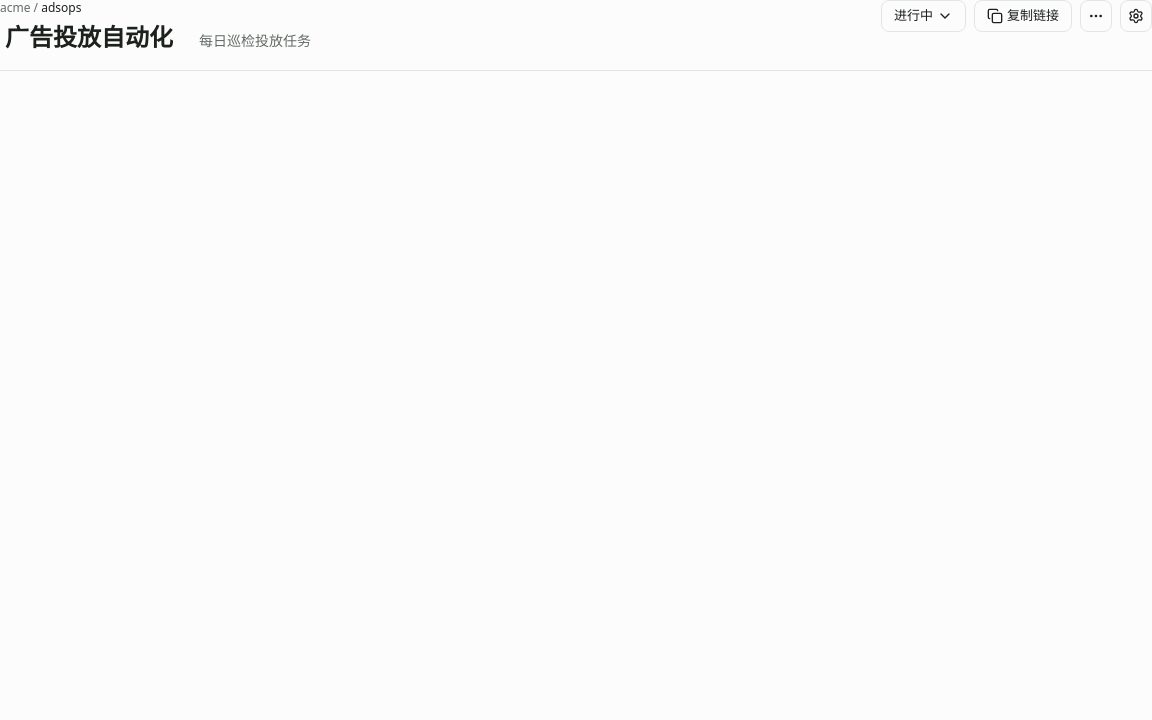
Test: ProjectHeaderEditor › opens the shared capture wizard from the managed project more menu
The image size is (1152, 720).
Click the button named "更多操作" at (1096, 16), box [1080,0,1112,32]
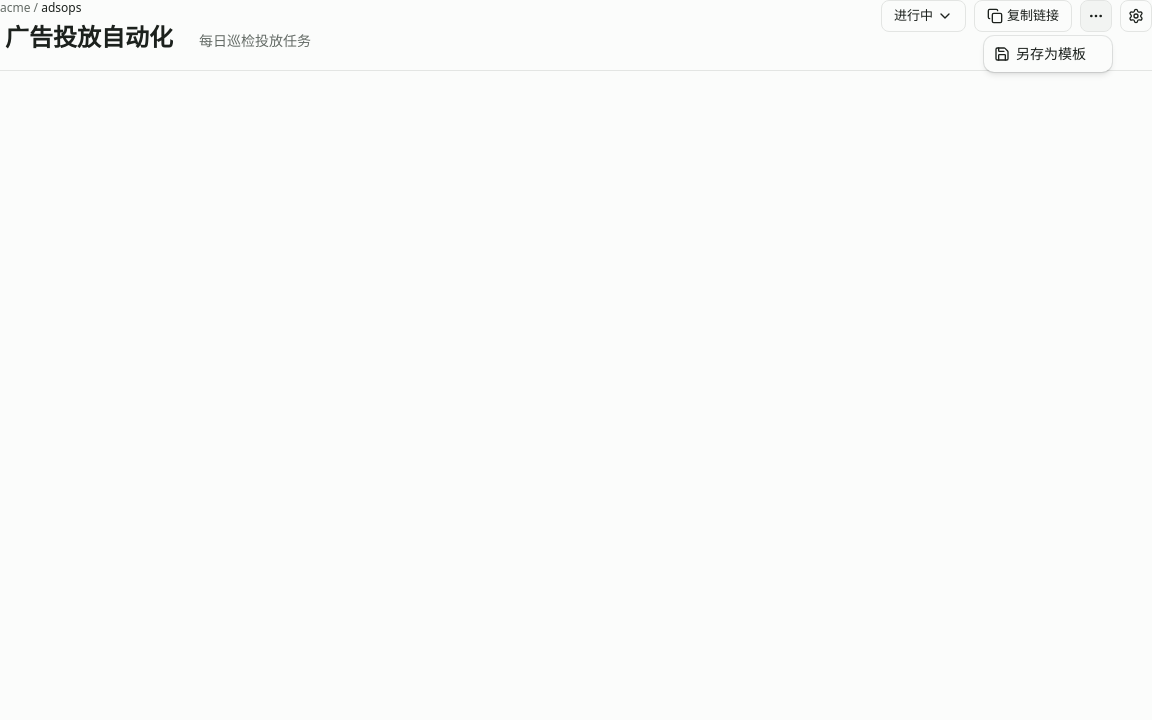
Click the menu item "另存为模板" at (1040, 54), box [994,44,1086,63]
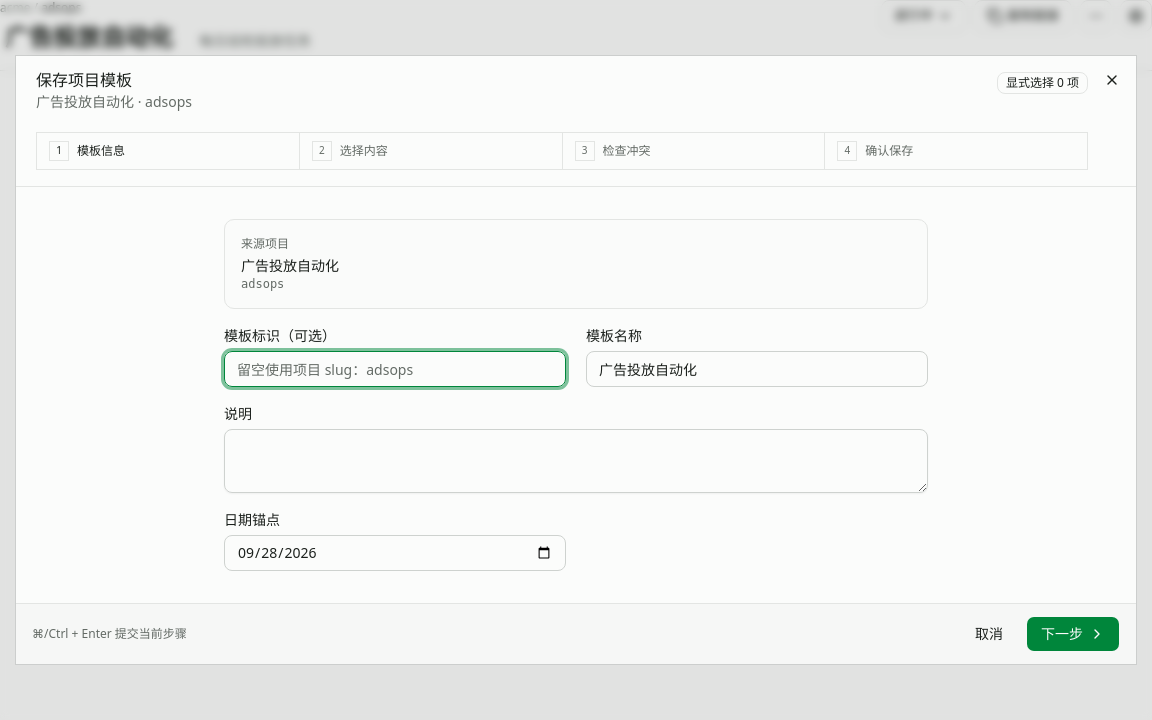
Expected: the dialog "保存项目模板" is shown
Expected: the text "广告投放自动化" is shown, [241,256,339,275]
